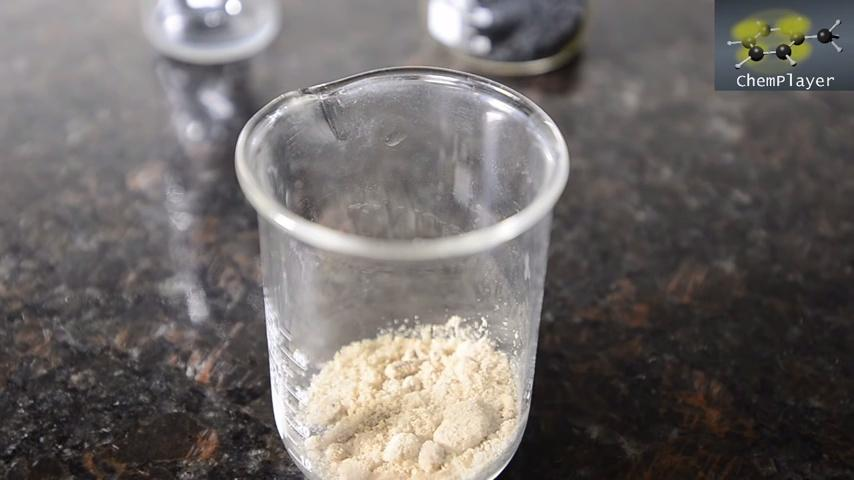Beaker: (223, 54, 575, 473)
